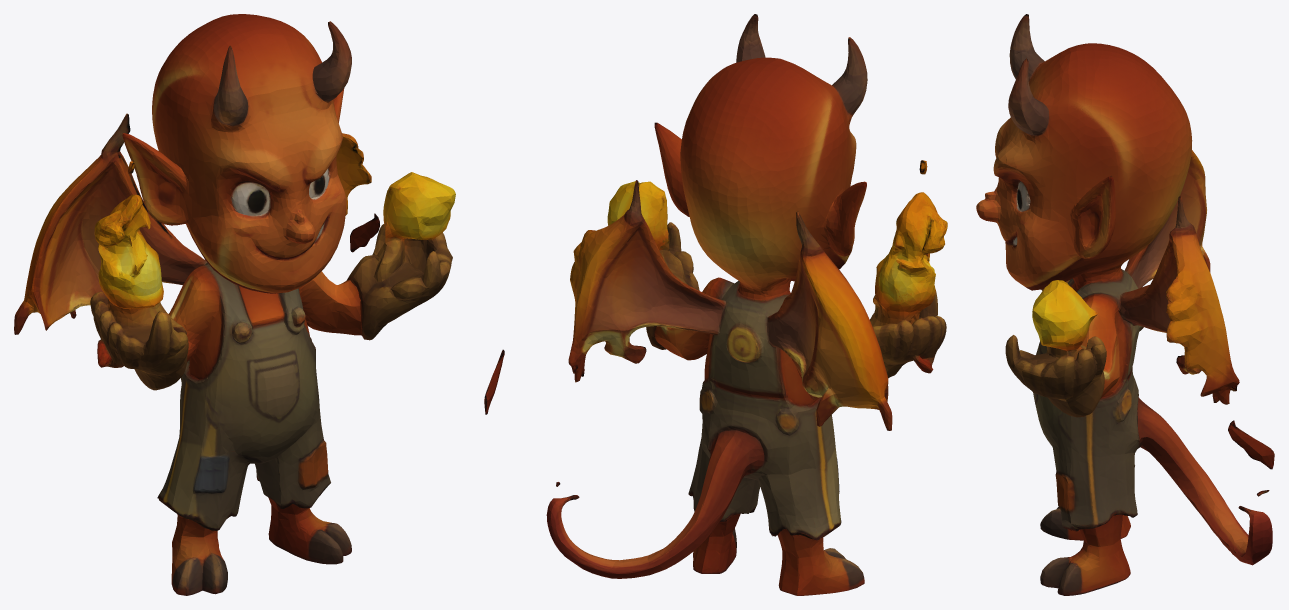
Rendered from gog.glb.
The picture shows the model from 3 angles, left to right: view 1: azimuth 30°, elevation 25°; view 2: azimuth 150°, elevation 25°; view 3: azimuth 270°, elevation 25°; orthographic projection. The views are drawn at different scales.
Visible parts, largest first — view 1: world; view 2: world; view 3: world.
Part boxes in pixels (x1,y1,x2,y2): world: (14,14,455,595); world: (484,14,947,595); world: (976,14,1274,595).
Size of the model in its own units: 0.7317 by 0.9981 by 0.52.
Materials: 1 (1 with a texture image).
